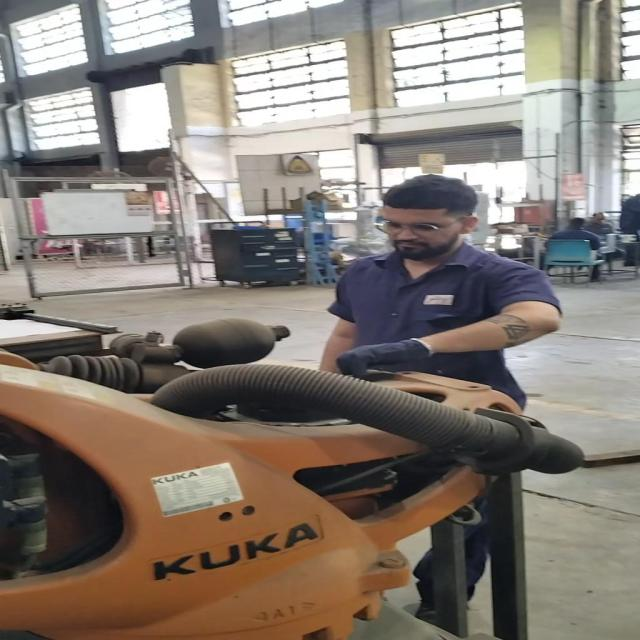Gloves-Detection: (338, 348, 428, 372)
